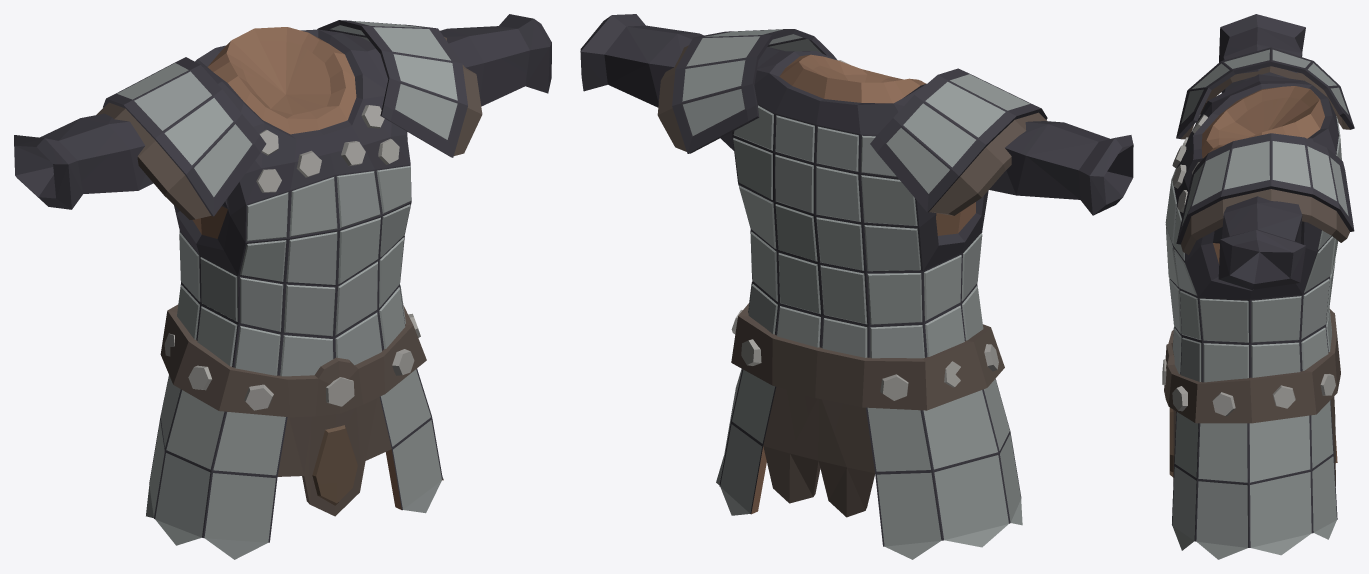
Rendered from armorFullSplintDisplay.fbx.
3 renders of one model, left to right at view 1: azimuth 30°, elevation 25°; view 2: azimuth 150°, elevation 25°; view 3: azimuth 270°, elevation 25°, orthographic. The views are drawn at different scales.
Parts seen in each view (by area): view 1: armorFullSplintDisplay; view 2: armorFullSplintDisplay; view 3: armorFullSplintDisplay.
Part boxes in pixels (bbox=[...]): armorFullSplintDisplay: bbox=[14, 14, 551, 559]; armorFullSplintDisplay: bbox=[580, 14, 1133, 559]; armorFullSplintDisplay: bbox=[1162, 14, 1354, 559].
Bounding box in the file's own units: 1.83 × 1.56 × 0.6605.
